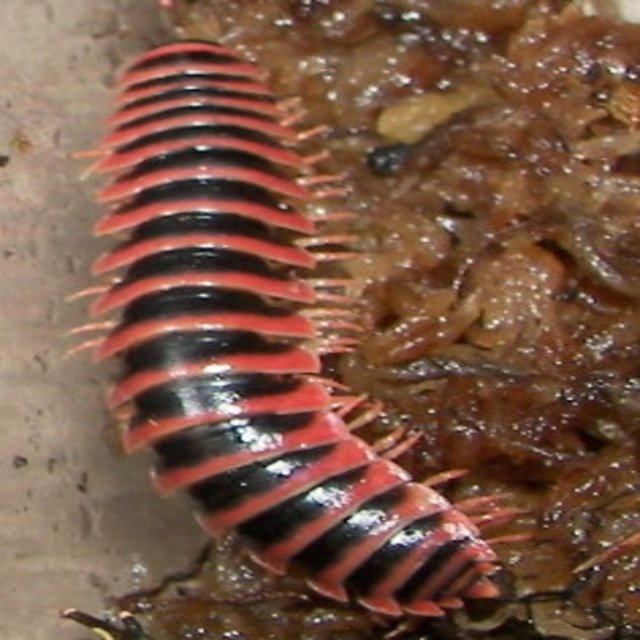Caterpillar: (71, 25, 637, 638)
